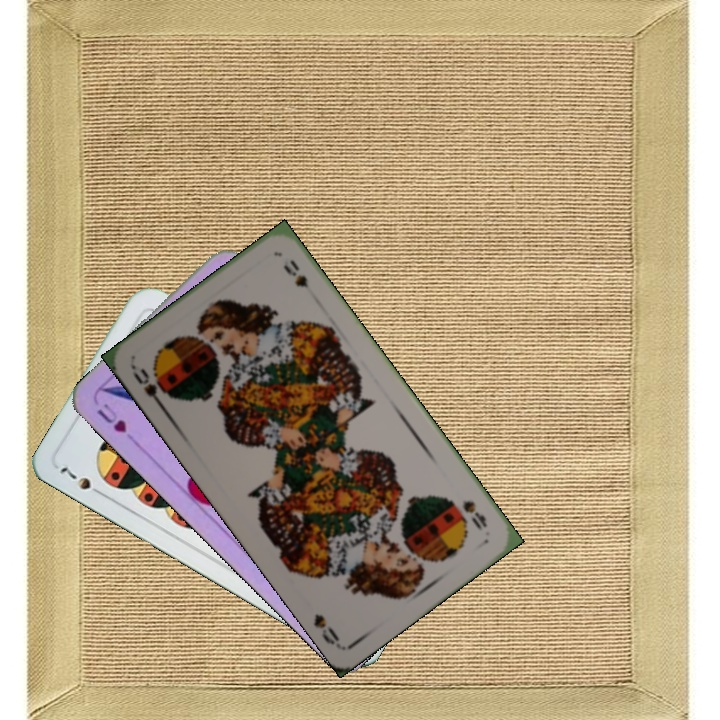HU: (93, 399, 130, 436)
S7: (55, 463, 107, 500)
SO: (128, 363, 175, 414), (458, 495, 490, 534)
